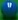blue: (0, 0, 18, 20)
